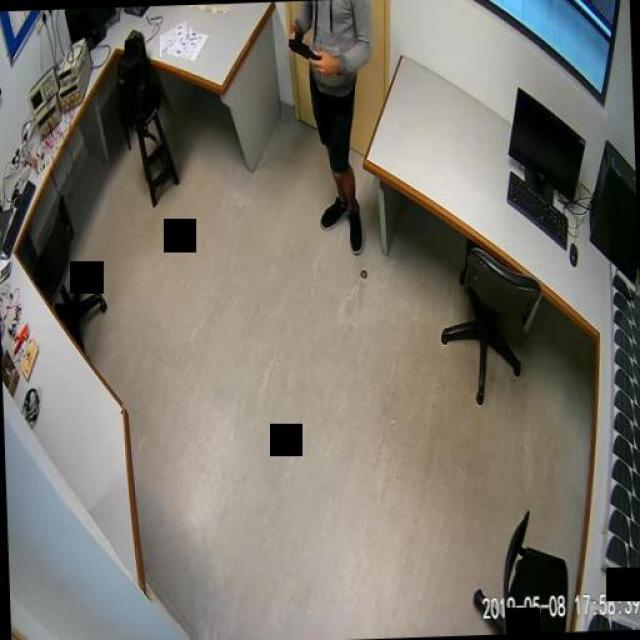gun: (285, 25, 321, 61)
